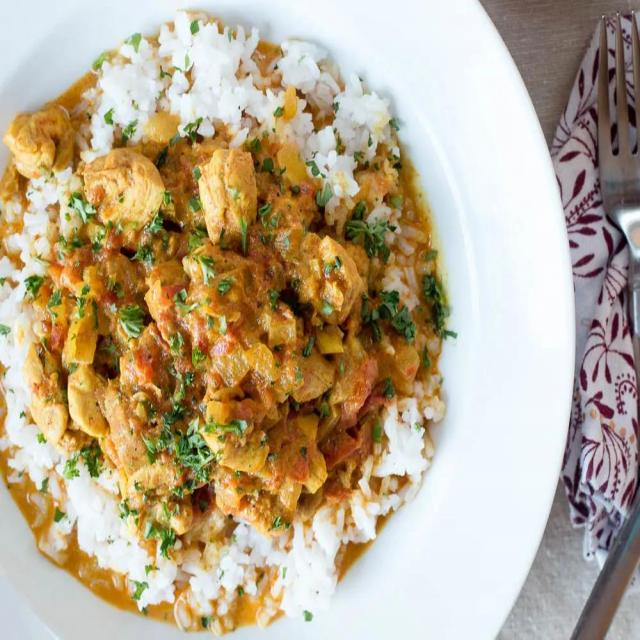chicken: (48, 139, 414, 531)
rice: (105, 28, 333, 128)
